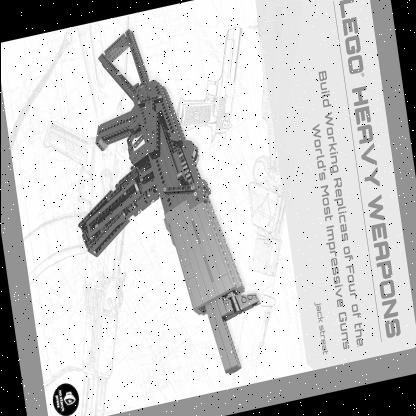rifle: (49, 8, 267, 404)
